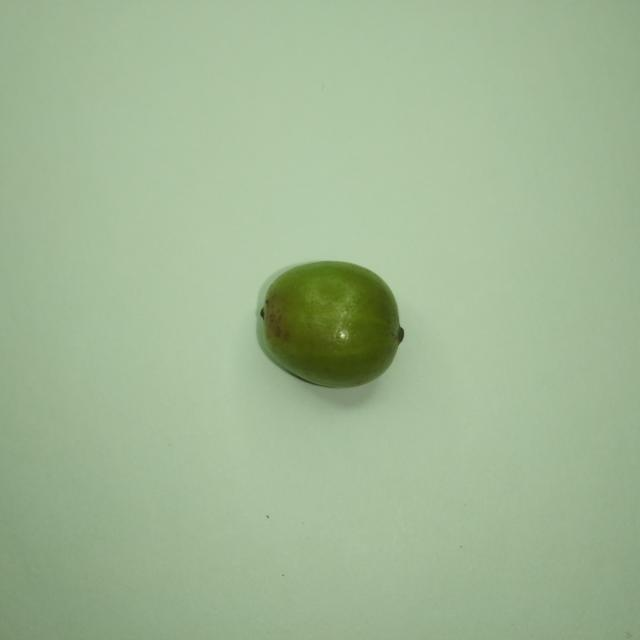Sano: (257, 261, 403, 387)
